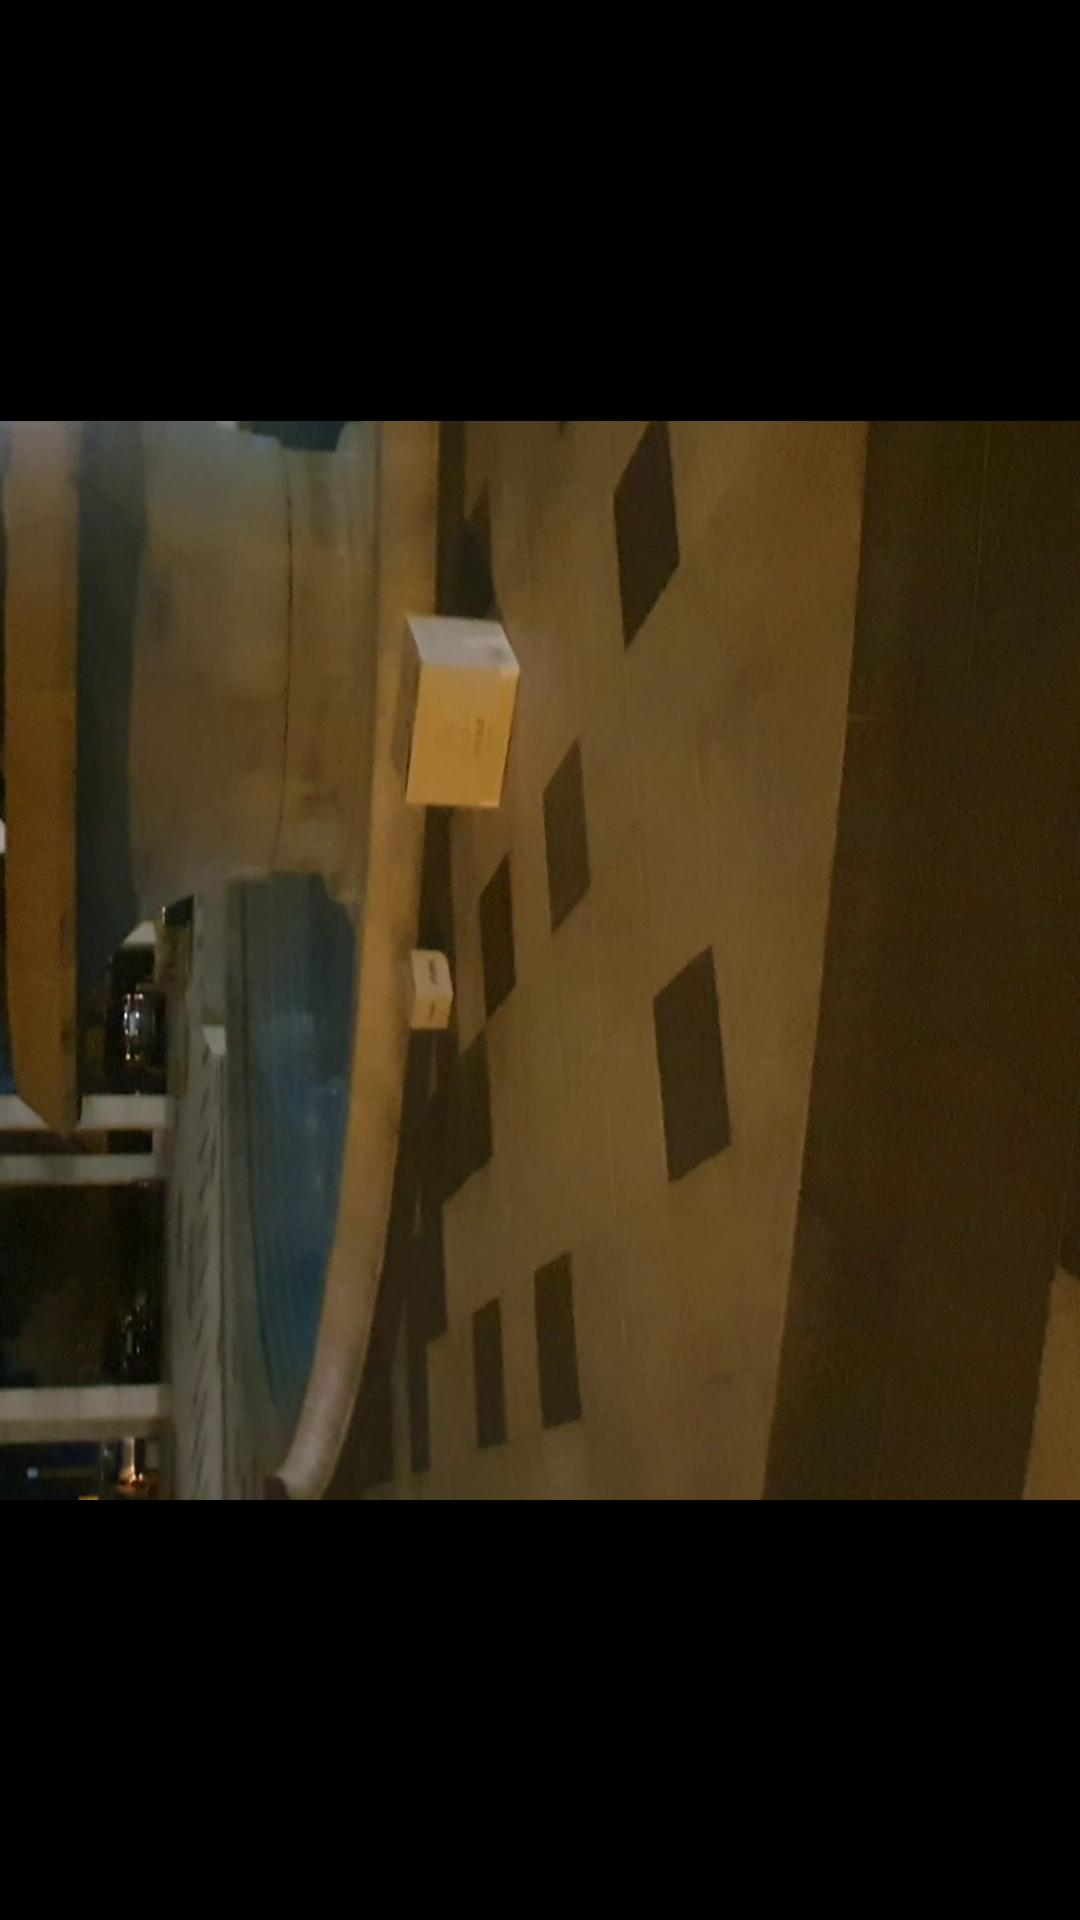Box: (378, 593, 527, 822), (393, 935, 454, 1034)
